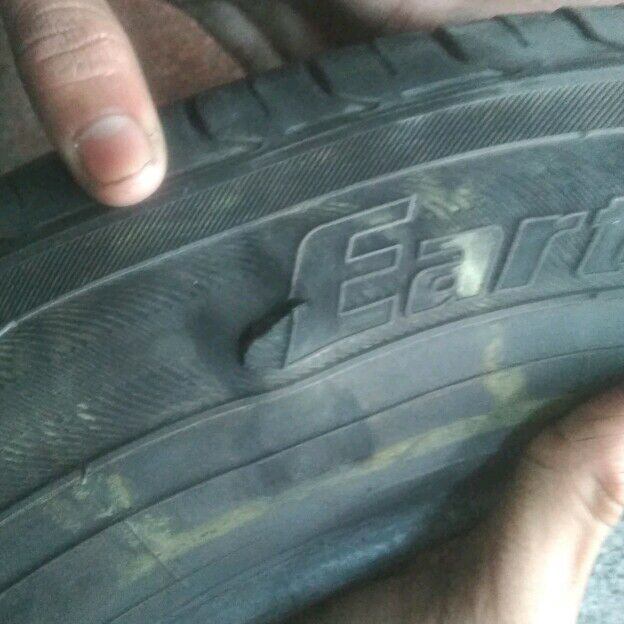cut: (229, 294, 312, 375)
